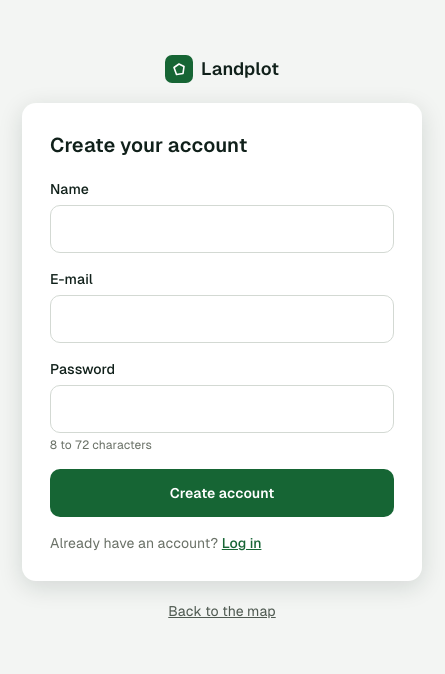
RegisterPage › validates locally before hitting the API
The width and height of the screenshot is (445, 674).
Step 1. Click the button "Create account" → point(222, 493), box [50,469,394,517]
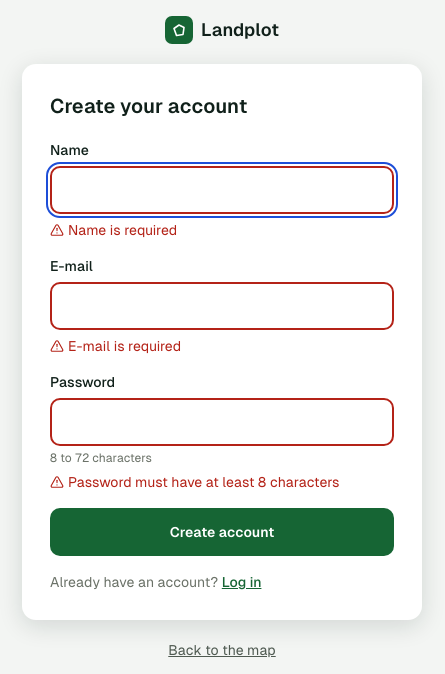
Expected: the text "Name is required" is shown, [50,222,177,238]
